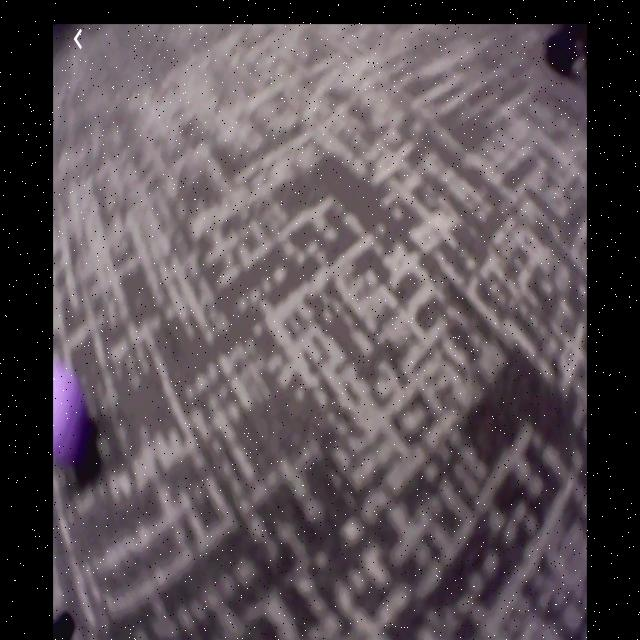ball: (55, 360, 83, 474)
